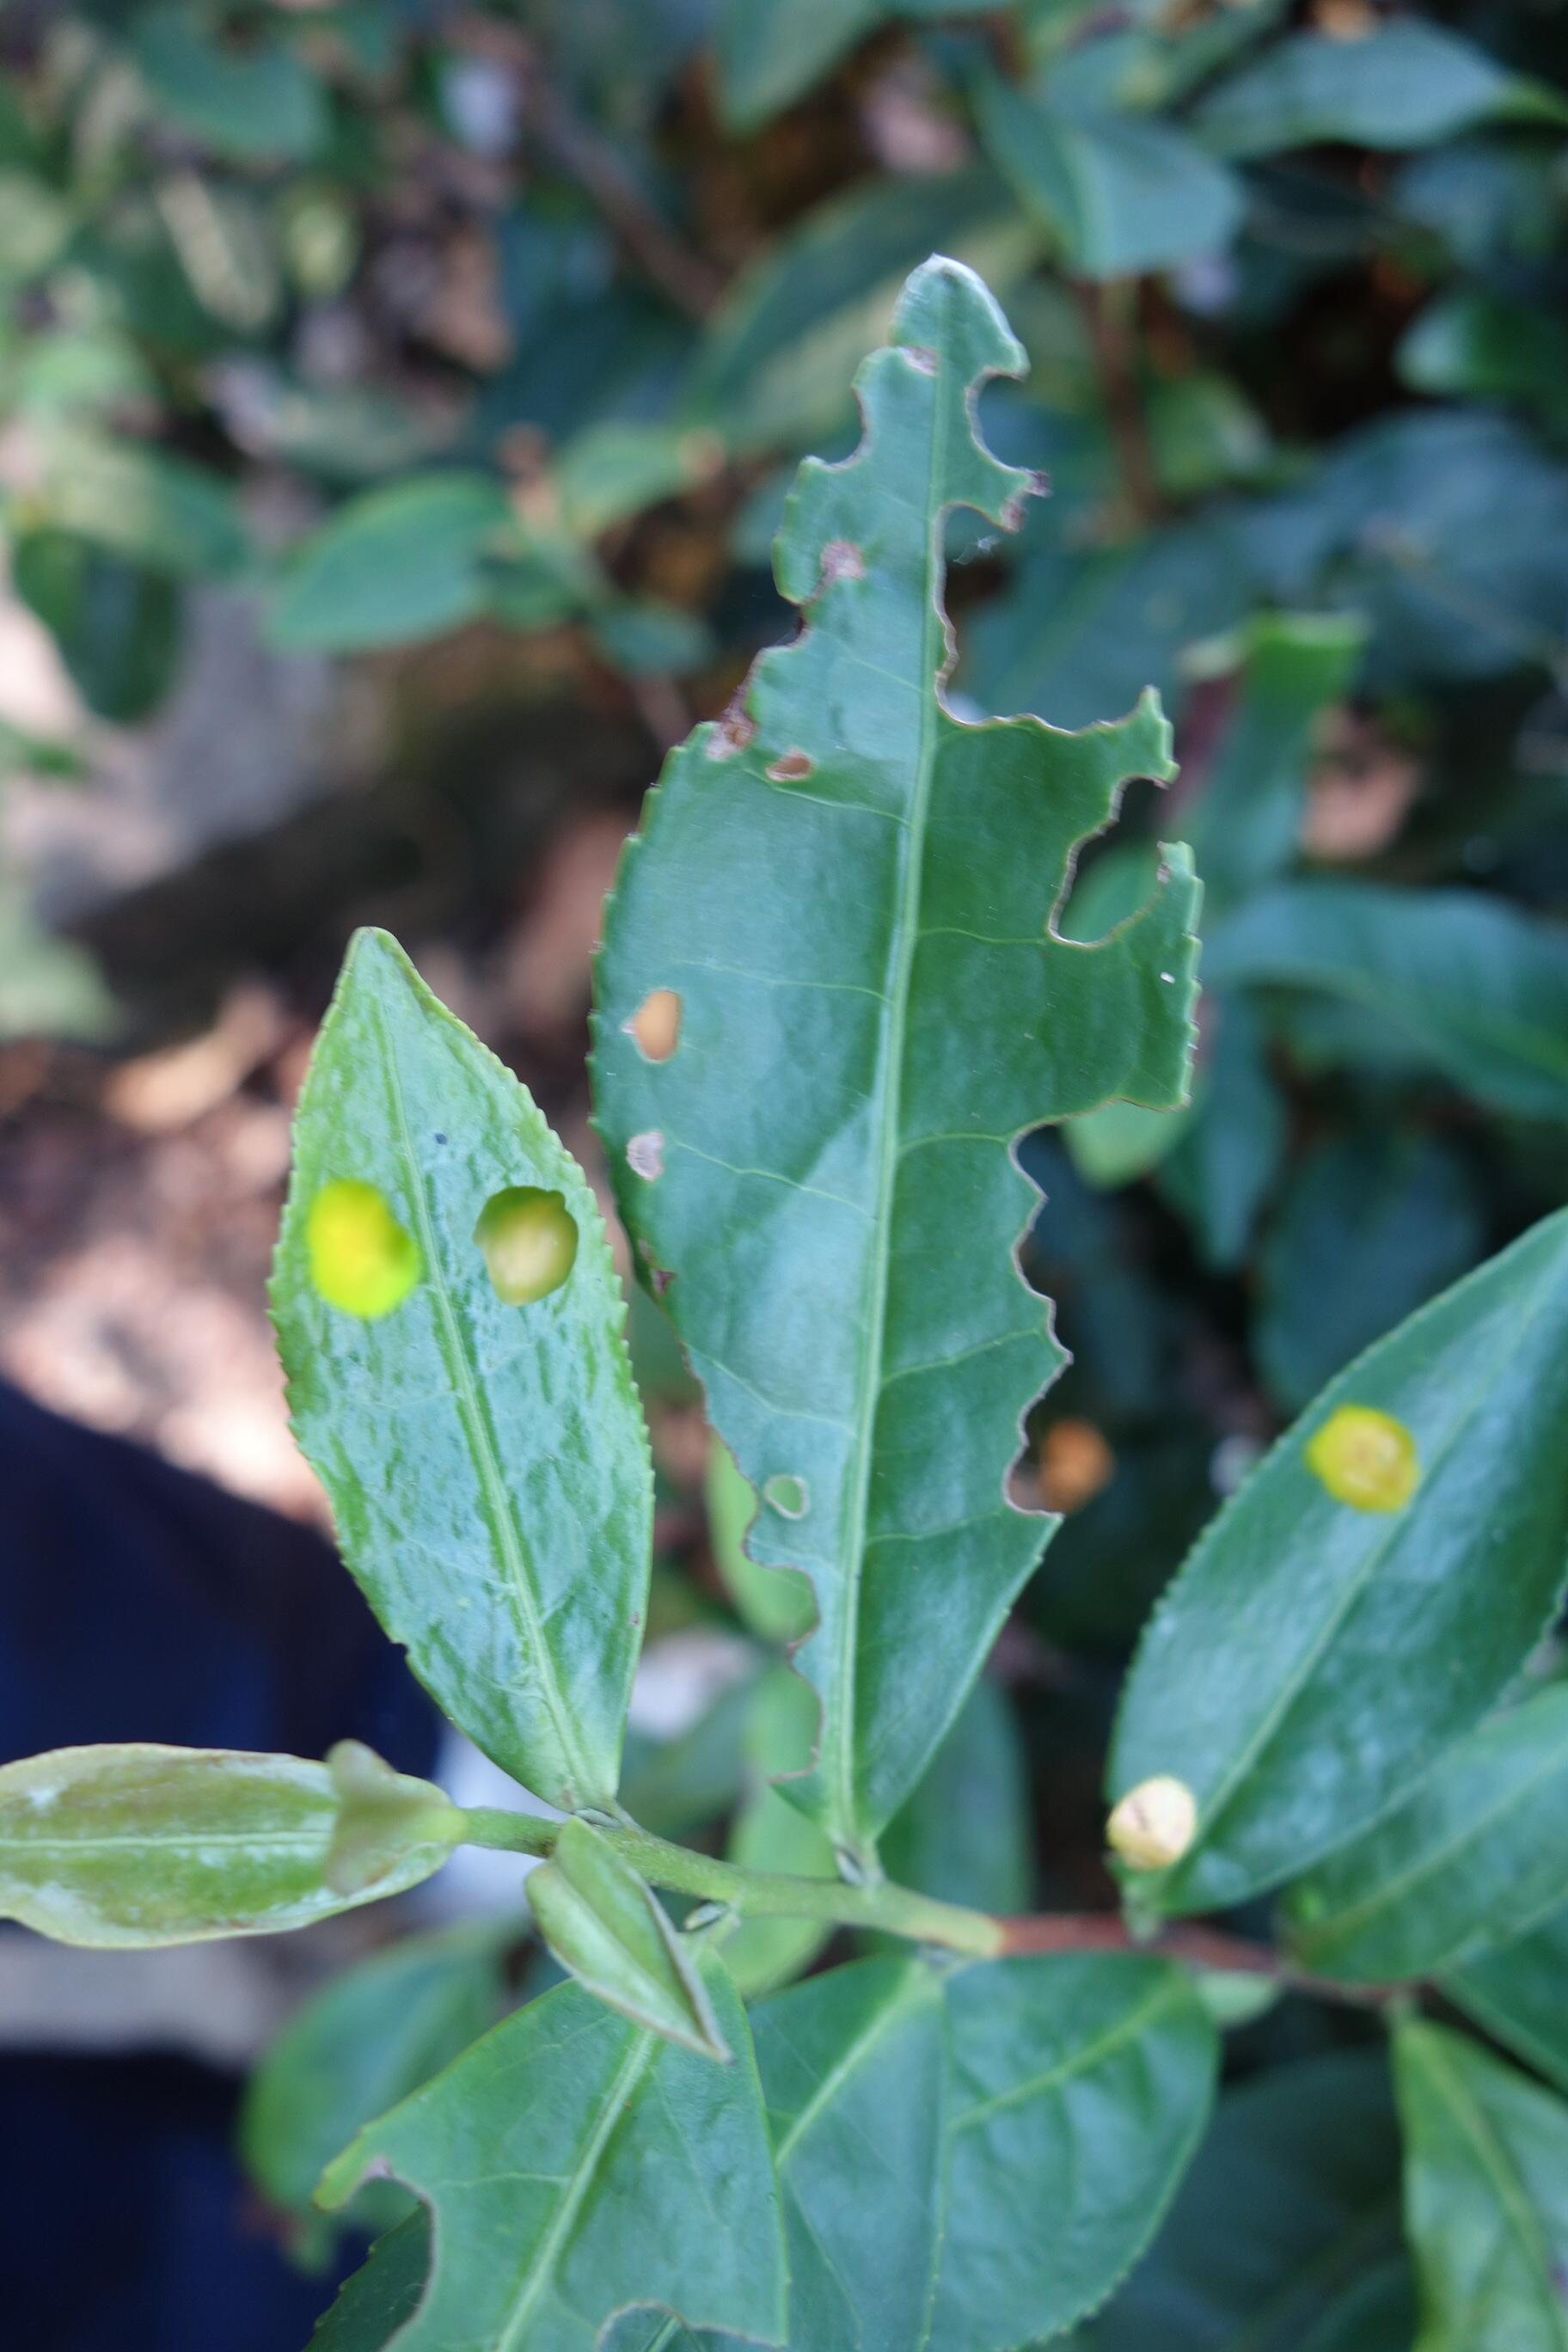chabing_high: (266, 913, 663, 1797), (1095, 1200, 1568, 1937)
chihuo_high: (590, 252, 1206, 1888), (311, 1949, 796, 2352)
tanju_low: (2, 1736, 464, 1949)
